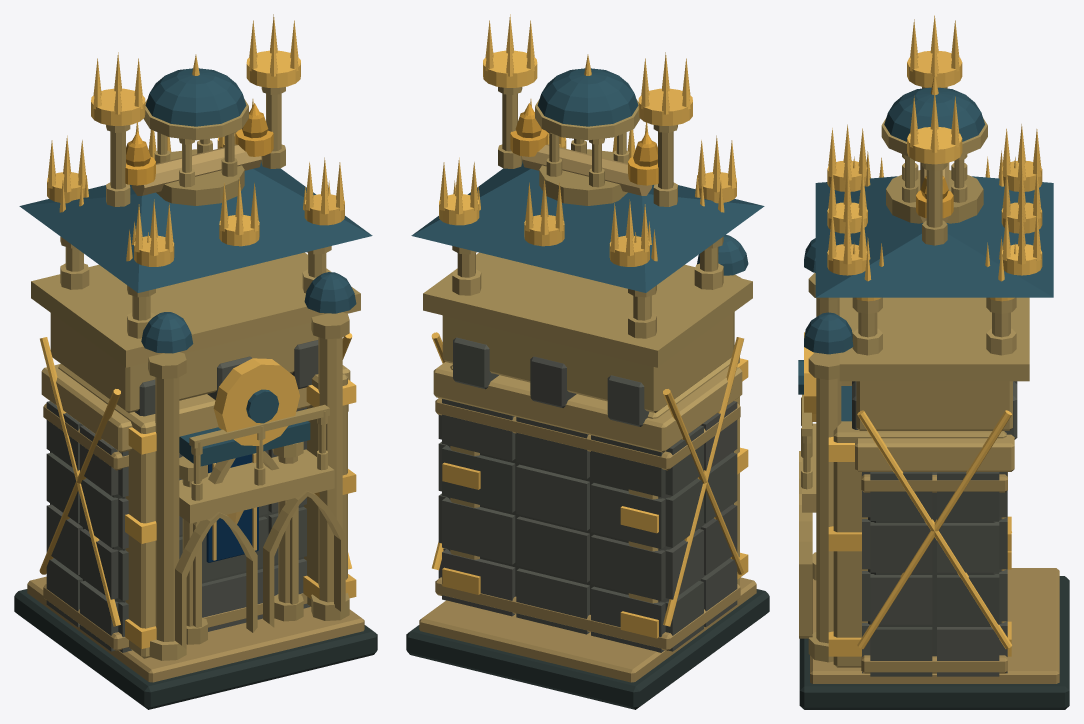
3 views of the same model, side by side, from view 1: azimuth 30°, elevation 25°; view 2: azimuth 150°, elevation 25°; view 3: azimuth 270°, elevation 25° (orthographic).
Visible parts, largest first — view 1: wall_L14_0, wall_L14_1; view 2: wall_L14_0, wall_L14_1; view 3: wall_L14_0, wall_L14_1.
Boxes of the visible parts, x1,y1,x2,y2 form: wall_L14_0: (14,68,377,709); wall_L14_1: (39,14,356,648); wall_L14_0: (406,68,769,709); wall_L14_1: (431,14,748,638); wall_L14_0: (798,87,1069,709); wall_L14_1: (804,15,1042,656).
Size of the model in its own units: 1.9 by 4.51 by 1.87.
